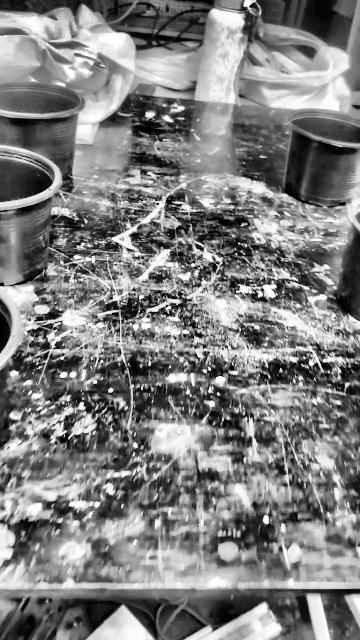pot: (0, 81, 84, 200), (0, 146, 61, 285), (285, 109, 360, 207), (0, 291, 21, 431), (337, 200, 359, 320)
